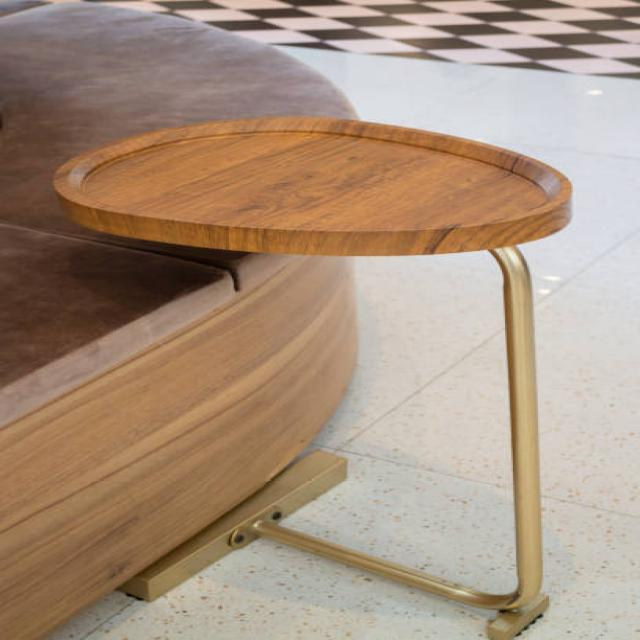table: (50, 113, 574, 639)
